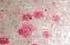plaque psoriasis: (22, 10, 43, 21), (16, 25, 33, 37), (51, 14, 61, 25), (42, 30, 52, 40), (0, 36, 10, 44), (0, 10, 3, 21), (31, 42, 37, 45)
